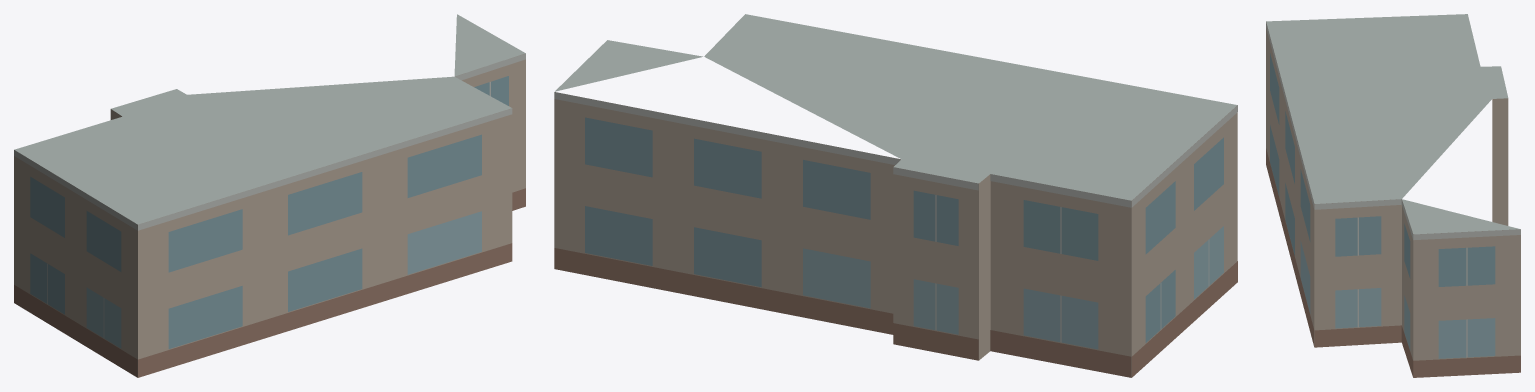
The model's file is survey-upis-32594734.glb.
3 views of the same model, side by side, from view 1: azimuth 30°, elevation 25°; view 2: azimuth 150°, elevation 25°; view 3: azimuth 270°, elevation 25° (orthographic). The views are drawn at different scales.
Visible parts, largest first — view 1: survey-upis-32594734.tmp; view 2: survey-upis-32594734.tmp; view 3: survey-upis-32594734.tmp.
Part boxes in pixels (x1,y1,x2,y2): survey-upis-32594734.tmp: (14, 14, 525, 377); survey-upis-32594734.tmp: (554, 14, 1237, 377); survey-upis-32594734.tmp: (1266, 14, 1520, 377).
Size of the model in its own units: 20.12 by 6.1 by 9.83.
